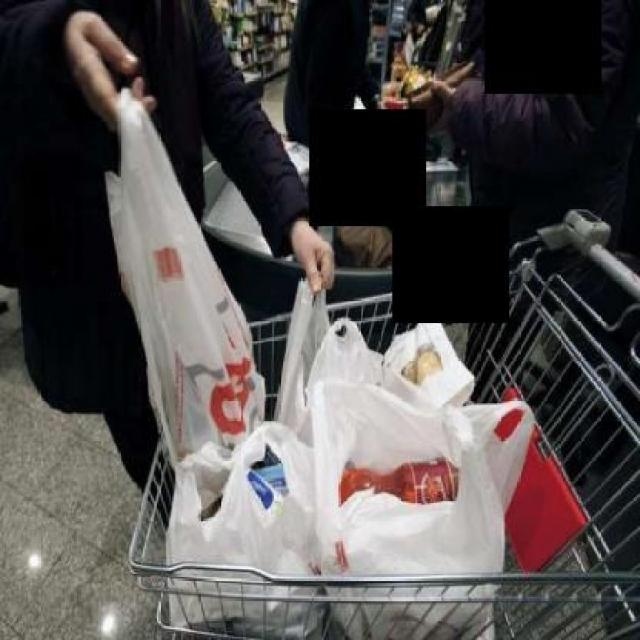plastic bag: (59, 146, 623, 637), (92, 77, 311, 535)
